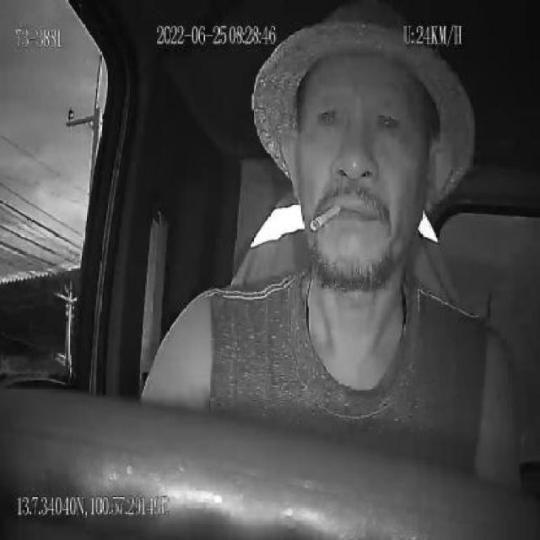smoking: (308, 200, 343, 239)
